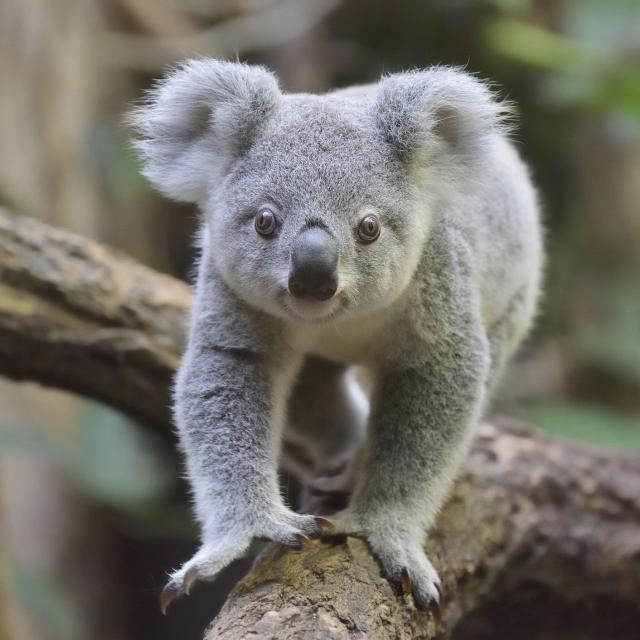koala: (127, 59, 544, 609)
